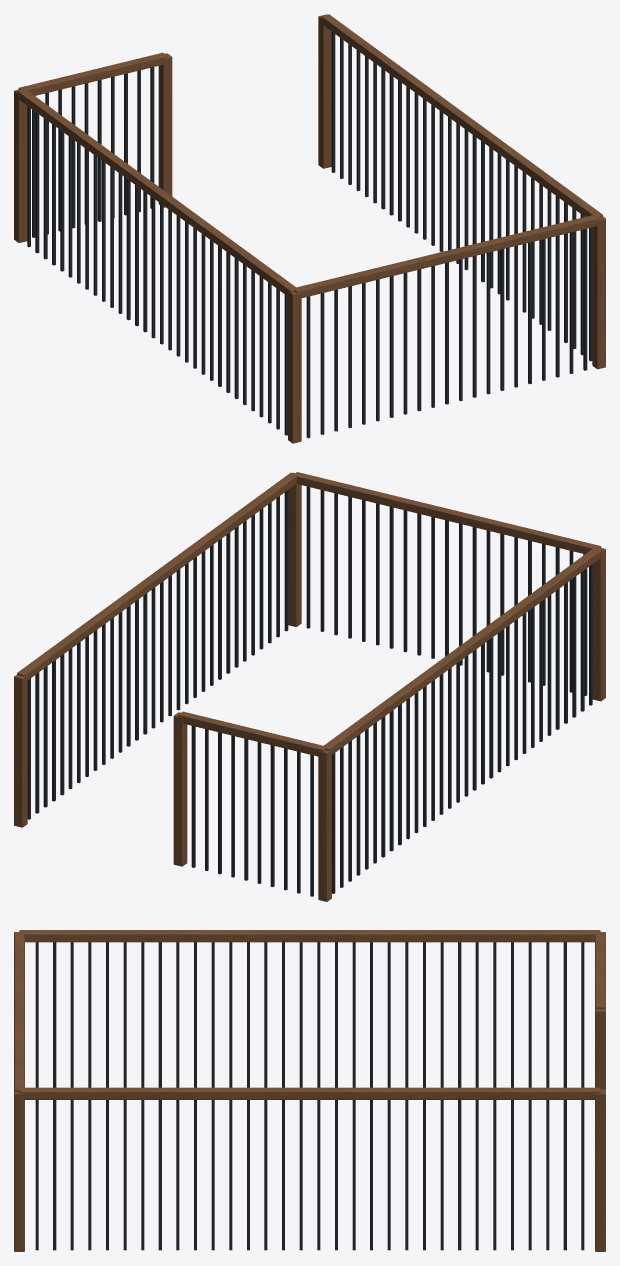
File: attic-guards-v002.glb
The picture shows the model from 3 angles, top to bottom: view 1: azimuth 30°, elevation 25°; view 2: azimuth 150°, elevation 25°; view 3: azimuth 270°, elevation 25°; orthographic projection. The views are drawn at different scales.
Parts seen in each view (by area): view 1: Export Guard west baluster; view 2: Export Guard west baluster; view 3: Export Guard west baluster.
Boxes of the visible parts, bbox=[...] form: Export Guard west baluster: bbox=[14, 14, 605, 443]; Export Guard west baluster: bbox=[14, 472, 605, 901]; Export Guard west baluster: bbox=[14, 930, 605, 1251].
Bounding box in the file's own units: 2.29 × 1.05 × 3.53.
Materials: 2 (1 with a texture image).
